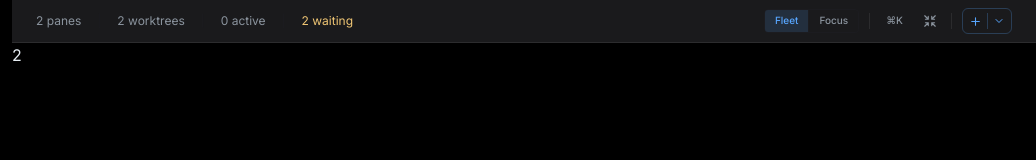
Test: AttentionPeek › opening › never opens on hover, even after the tooltip has appeared
The width and height of the screenshot is (1036, 160).
Hover over the element showing "2 waiting" at point(327, 21), box 302,13 -> 353,29
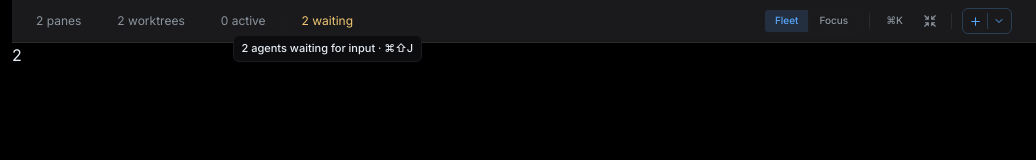
Now the tooltip "2 agents waiting for input · ⌘⇧J" is shown, box 232,35 -> 422,62
